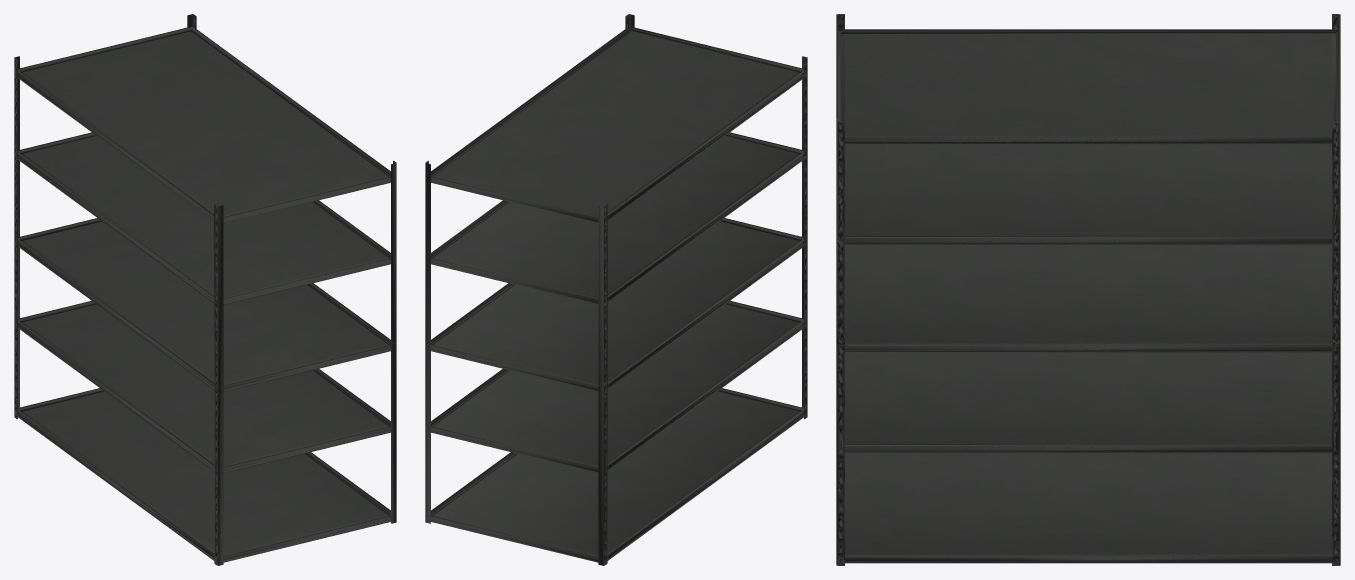
Rendered from estante.glb.
The picture shows the model from 3 angles, left to right: view 1: azimuth 30°, elevation 25°; view 2: azimuth 150°, elevation 25°; view 3: azimuth 270°, elevation 25°; orthographic projection. The views are drawn at different scales.
Parts seen in each view (by area): view 1: sm_storage_shelf_basic_a01_01; view 2: sm_storage_shelf_basic_a01_01; view 3: sm_storage_shelf_basic_a01_01.
Part boxes in pixels (bbox=[...]): sm_storage_shelf_basic_a01_01: bbox=[14, 14, 396, 565]; sm_storage_shelf_basic_a01_01: bbox=[425, 14, 807, 565]; sm_storage_shelf_basic_a01_01: bbox=[836, 14, 1340, 565].
Size of the model in its own units: 1.27 by 2.42 by 2.49.
Materials: 1 (1 with a texture image).
